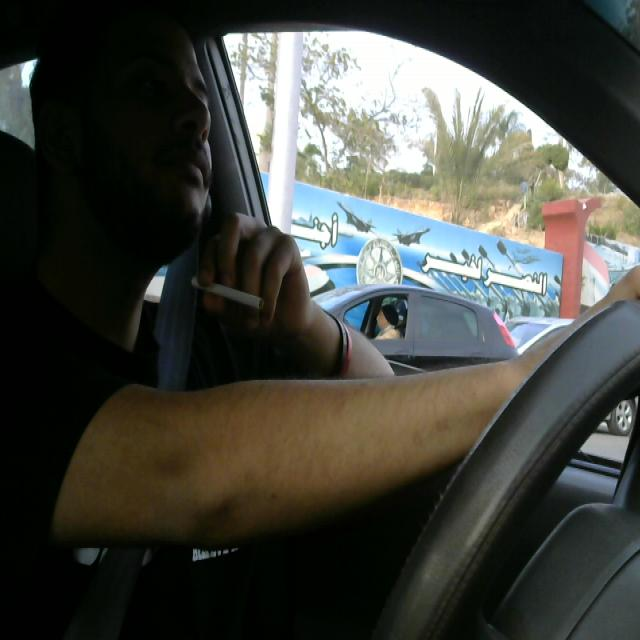smoking: (185, 268, 269, 313)
